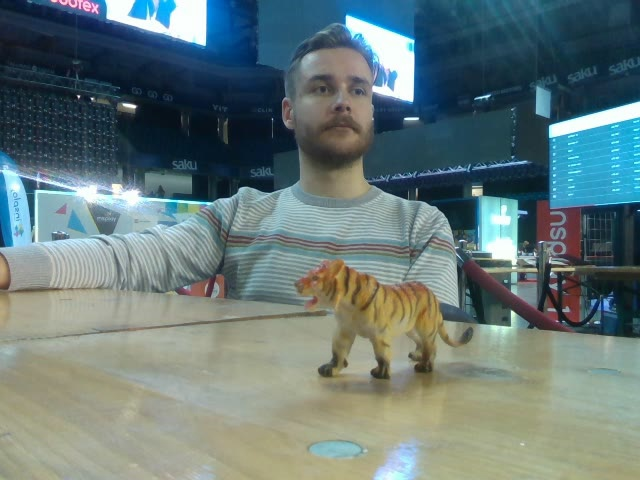toy: (293, 259, 474, 381)
